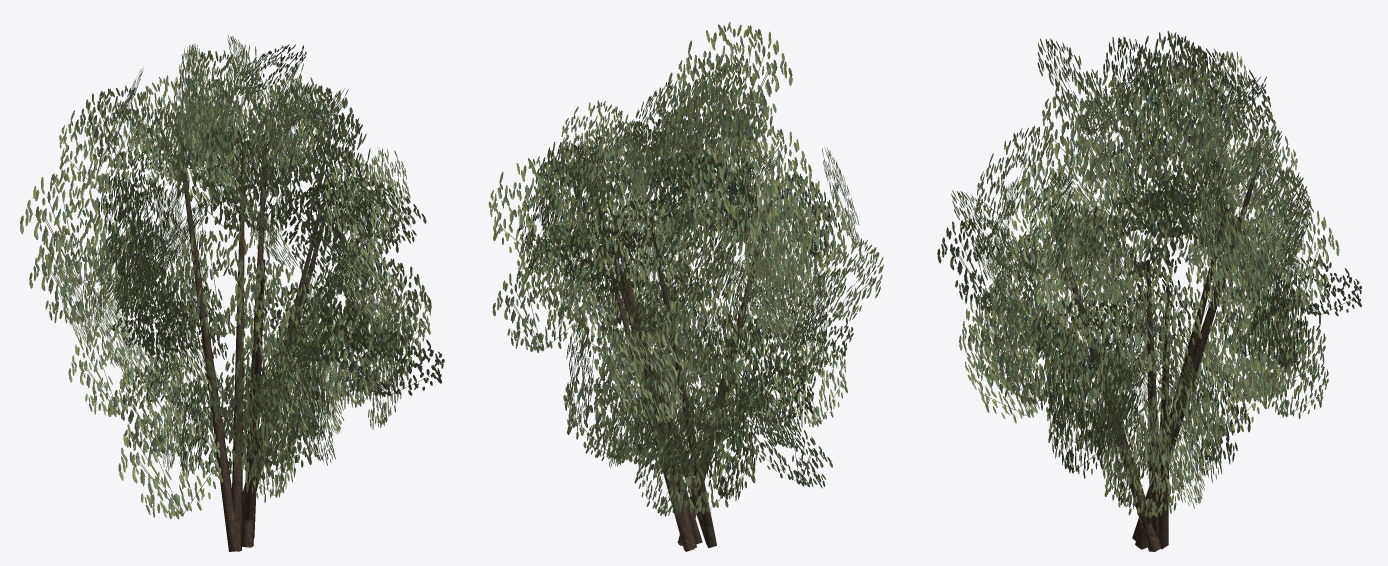
Rendered from tpl_rec_bank_meadow_osier_hi.glb.
The picture shows the model from 3 angles, left to right: view 1: azimuth 30°, elevation 25°; view 2: azimuth 150°, elevation 25°; view 3: azimuth 270°, elevation 25°; orthographic projection. The views are drawn at different scales.
Parts seen in each view (by area): view 1: tpl_rec_bank_meadow_osier_hi; view 2: tpl_rec_bank_meadow_osier_hi; view 3: tpl_rec_bank_meadow_osier_hi.
Boxes of the visible parts, box(x1,y1,x2,y2) form: tpl_rec_bank_meadow_osier_hi: box(20, 35, 444, 551); tpl_rec_bank_meadow_osier_hi: box(488, 22, 883, 551); tpl_rec_bank_meadow_osier_hi: box(937, 31, 1361, 551).
Bounding box in the file's own units: 3.72 × 5.06 × 3.97.
Materials: 2 (2 with a texture image).
